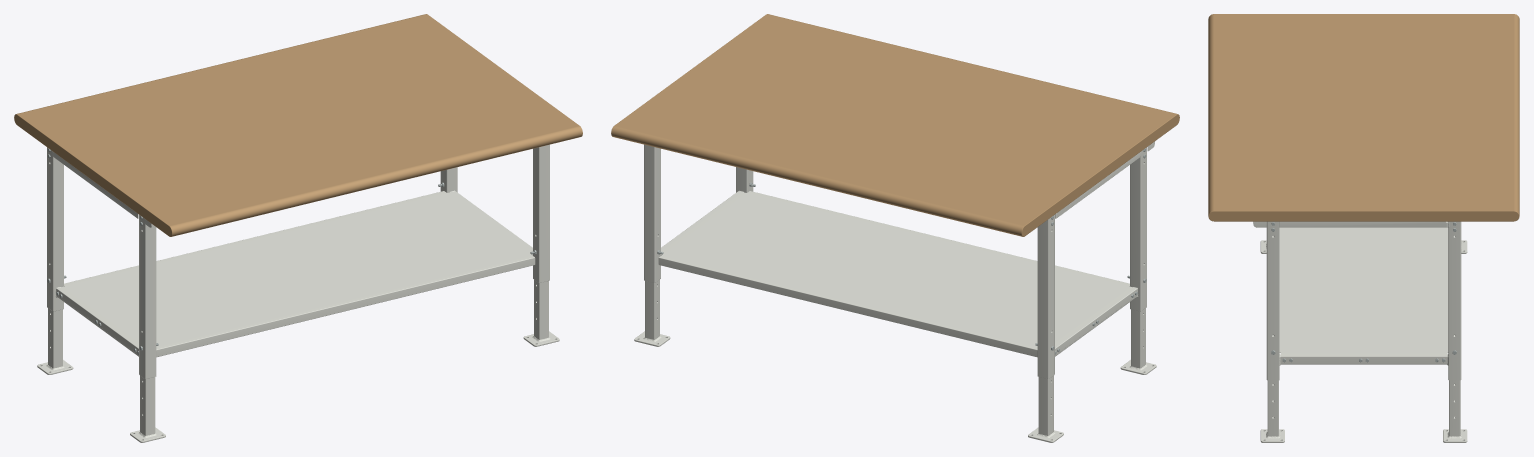
File: table_packing_heavyduty_c01.glb
3 renders of one model, left to right at view 1: azimuth 30°, elevation 25°; view 2: azimuth 150°, elevation 25°; view 3: azimuth 270°, elevation 25°, orthographic.
Size of the model in its own units: 1.87 by 0.9941 by 1.22.
